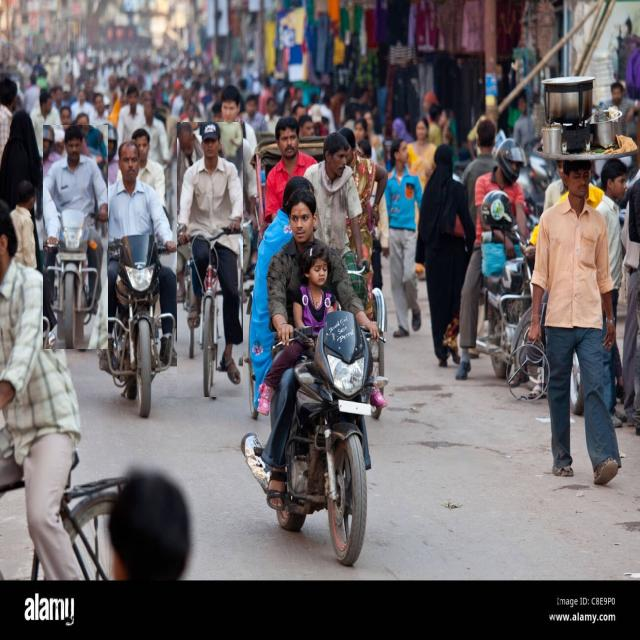bicycle: (178, 123, 243, 397)
motorcycle: (241, 178, 384, 565), (91, 139, 180, 416), (44, 126, 108, 349), (368, 396, 370, 399)
